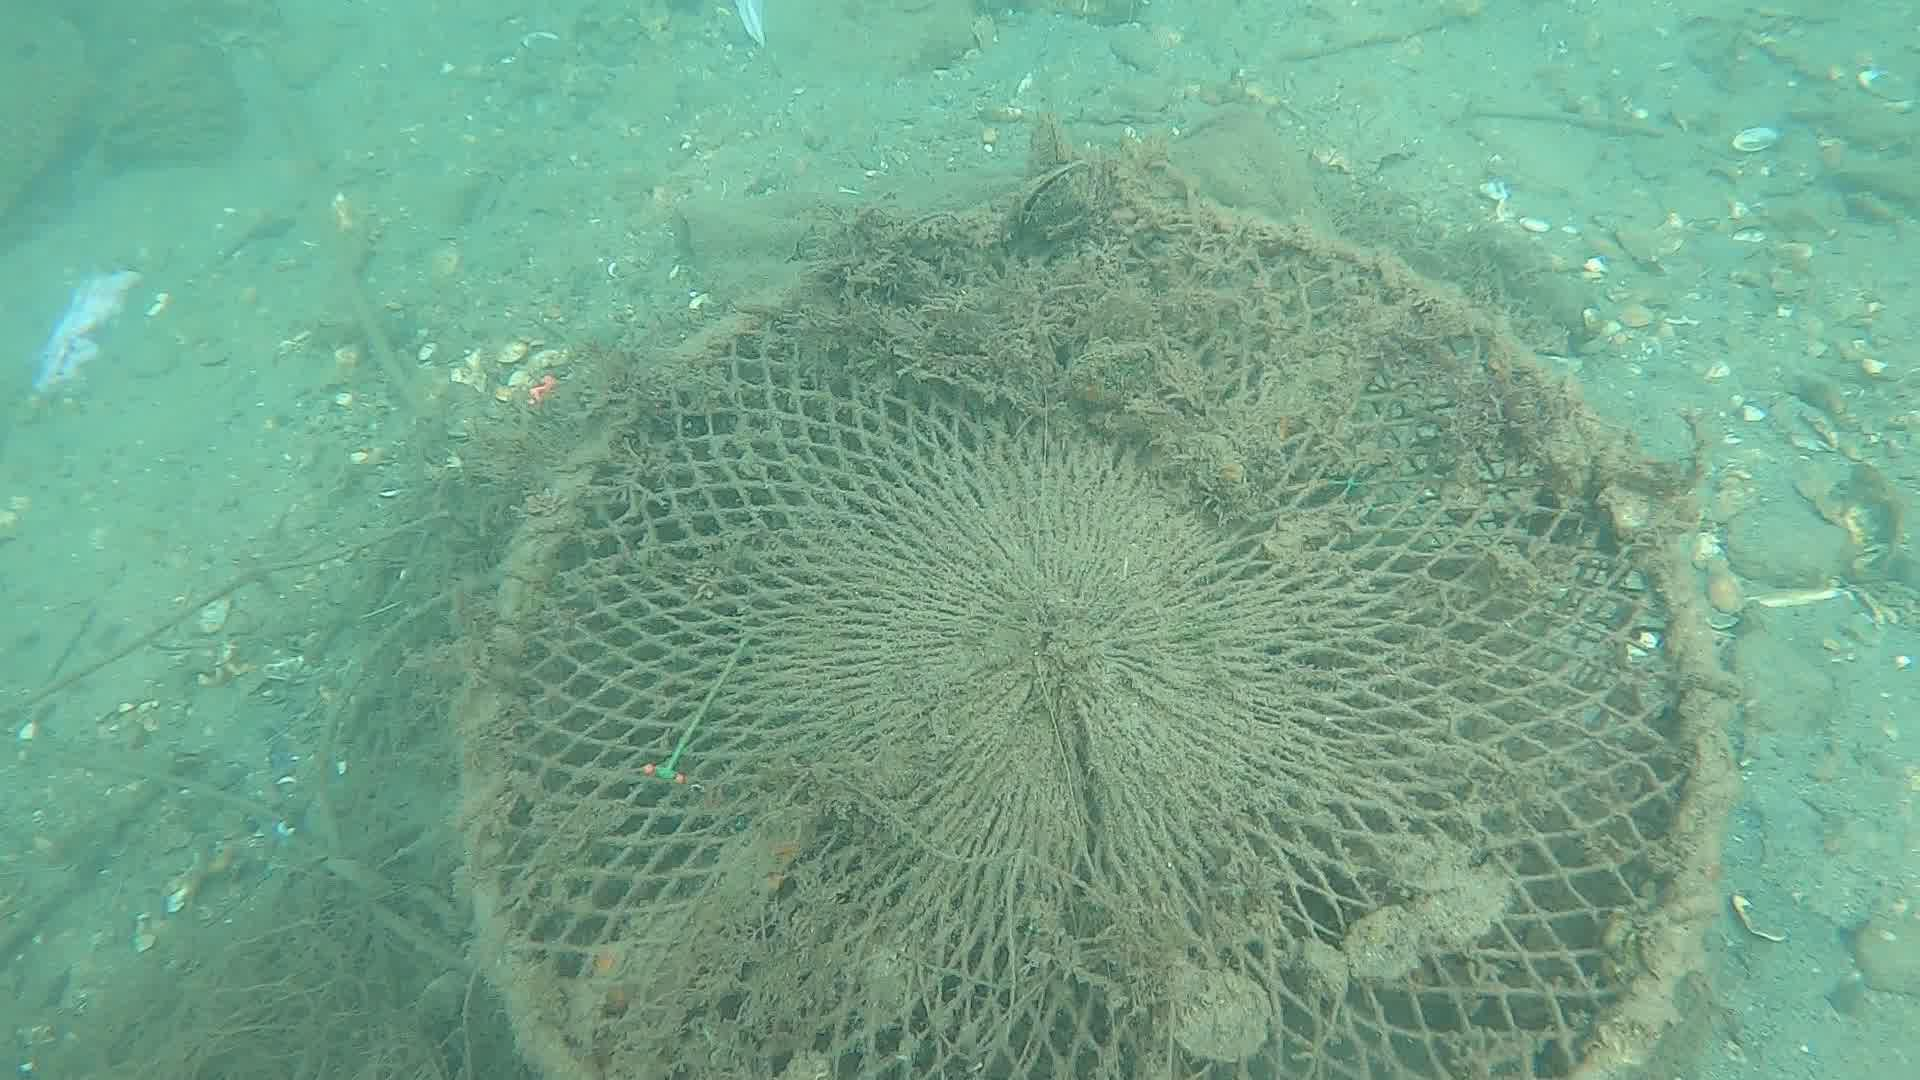circular fish trap: (435, 189, 1749, 1080)
